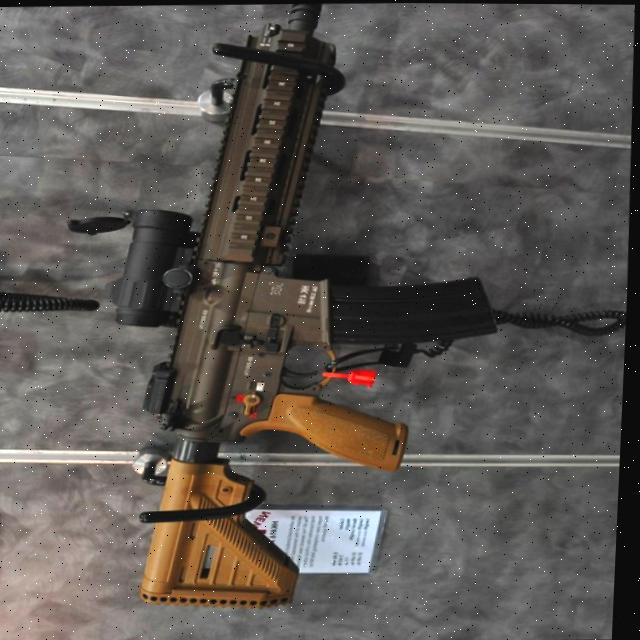firearm: (94, 1, 511, 611)
